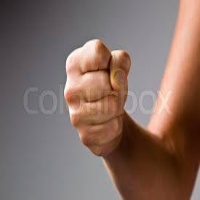ring: (74, 93, 125, 126)
